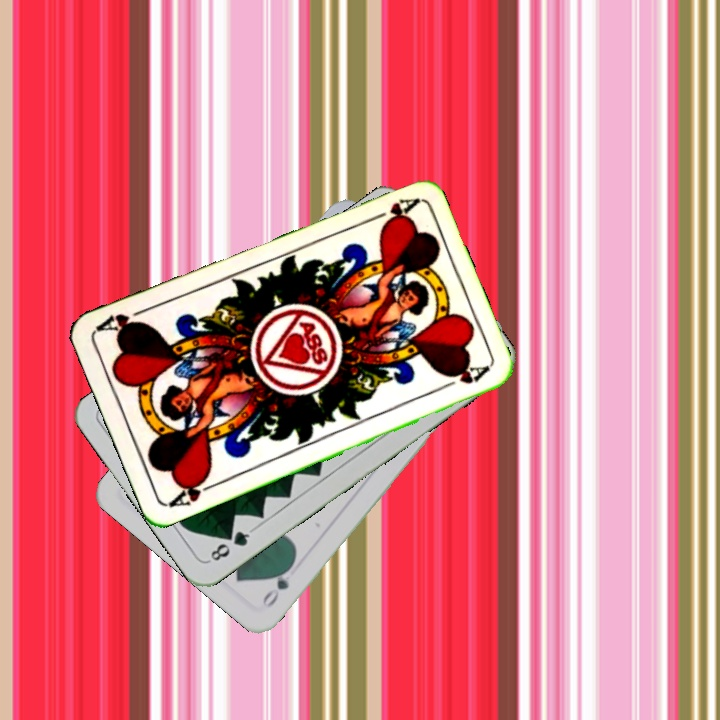G8: (204, 525, 256, 565)
GO: (258, 558, 297, 611)
HA: (165, 471, 222, 510), (362, 194, 420, 226)
